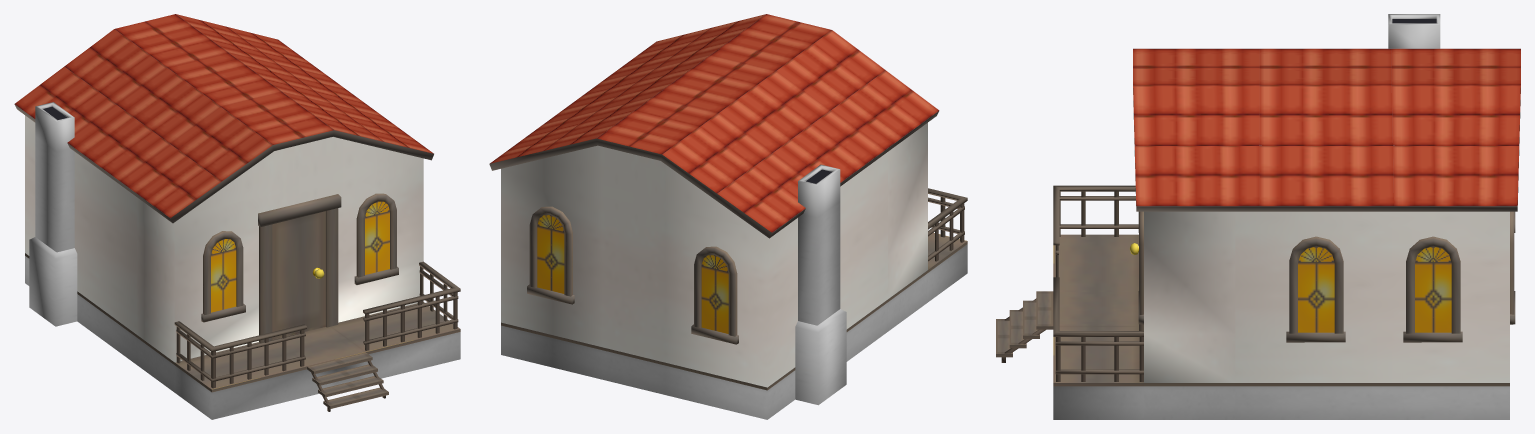
Rendered from Town Houses Variant 2 (Red).fbx.
3 renders of one model, left to right at view 1: azimuth 30°, elevation 25°; view 2: azimuth 150°, elevation 25°; view 3: azimuth 270°, elevation 25°, orthographic. The views are drawn at different scales.
Parts seen in each view (by area): view 1: Town House 2 V1; view 2: Town House 2 V1; view 3: Town House 2 V1.
Part boxes in pixels (x1,y1,x2,y2): Town House 2 V1: (14, 14, 460, 419); Town House 2 V1: (489, 14, 967, 419); Town House 2 V1: (996, 14, 1520, 419).
Bounding box in the file's own units: 625 × 490 × 836.
Materials: 1 (1 with a texture image).
